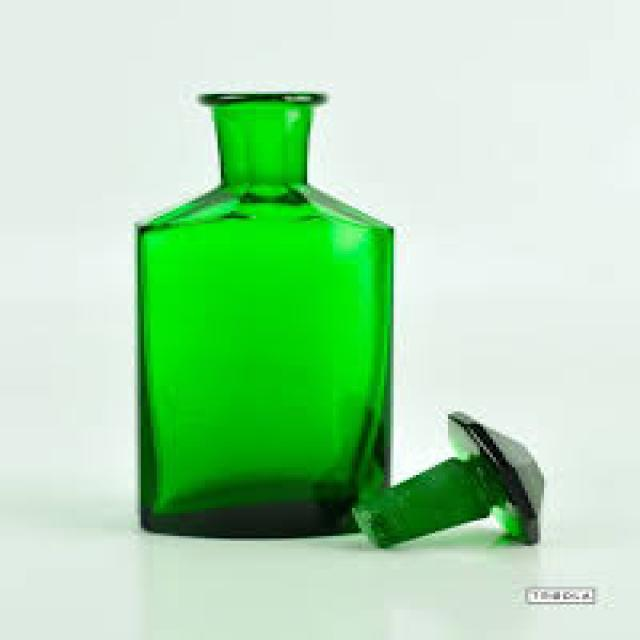glass: (135, 89, 391, 538), (349, 409, 544, 546)
